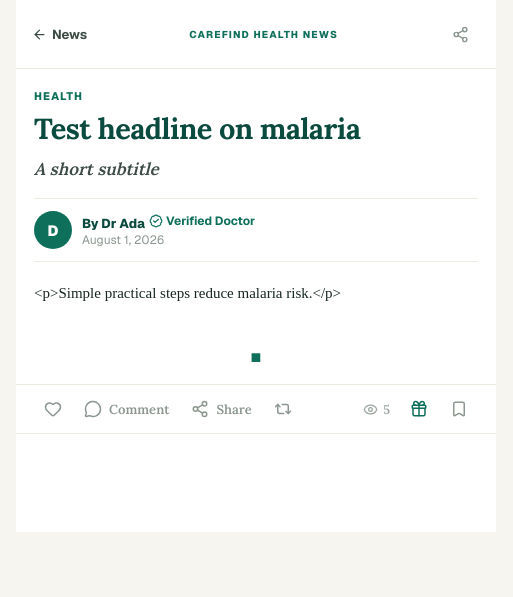
NewsArticle route /news/:id › reposts an article: inserts a news_reposts row, bumps the count and toasts
The width and height of the screenshot is (513, 597).
expect the heading "Test headline on malaria" is shown: met, box x1=34 y1=110 x2=360 y2=147
What coordinates should you click on to do the following:
click the button named "repost this article"
I would click on:
 (283, 409)
Its box is x1=264 y1=389 x2=302 y2=429.
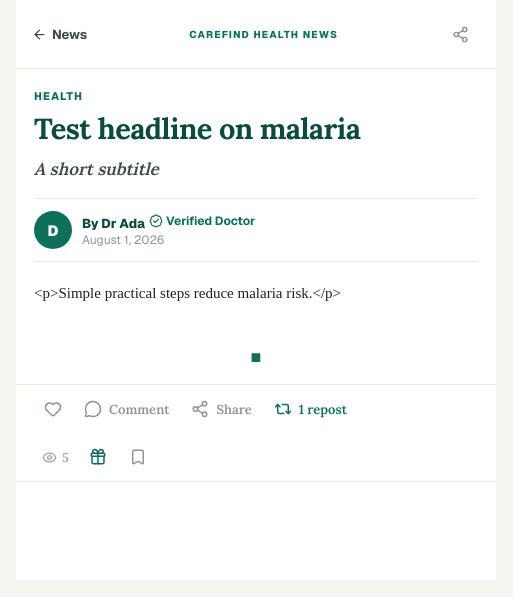
expect the text "1 repost" is shown: met, box x1=299 y1=401 x2=347 y2=418
